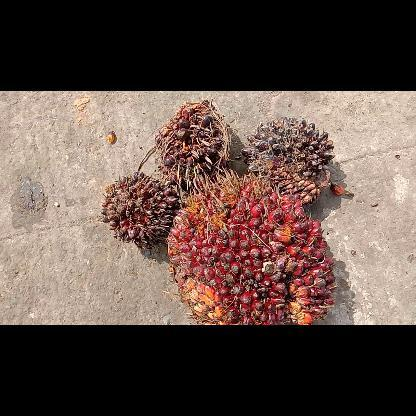TBS abnormal: (240, 115, 336, 208), (152, 98, 232, 193), (99, 168, 184, 250)
TBS masak: (166, 166, 338, 324)
